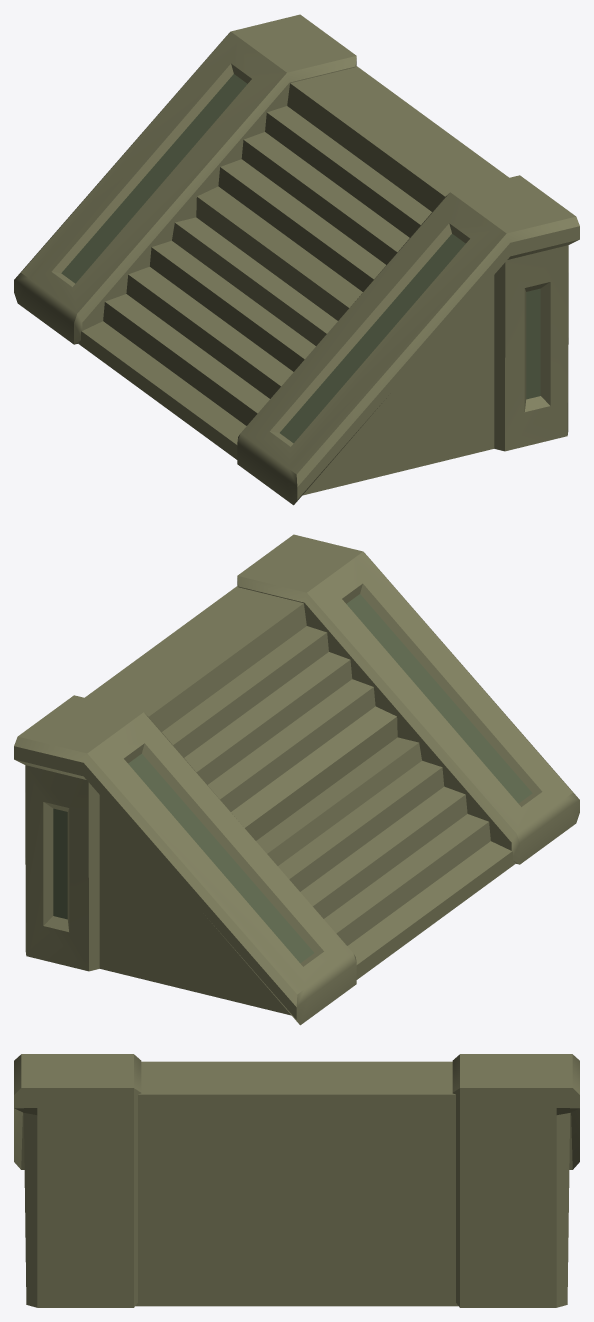
File: stairs04_2.fbx
The picture shows the model from 3 angles, top to bottom: view 1: azimuth 30°, elevation 25°; view 2: azimuth 150°, elevation 25°; view 3: azimuth 270°, elevation 25°; orthographic projection.
Parts seen in each view (by area): view 1: stairs04_2; view 2: stairs04_2; view 3: stairs04_2.
Boxes of the visible parts, <box> form: stairs04_2: <box>14,14,579,505</box>; stairs04_2: <box>14,534,579,1025</box>; stairs04_2: <box>14,1054,579,1307</box>.
Size of the model in its own units: 2.93 by 2.18 by 5.09.
